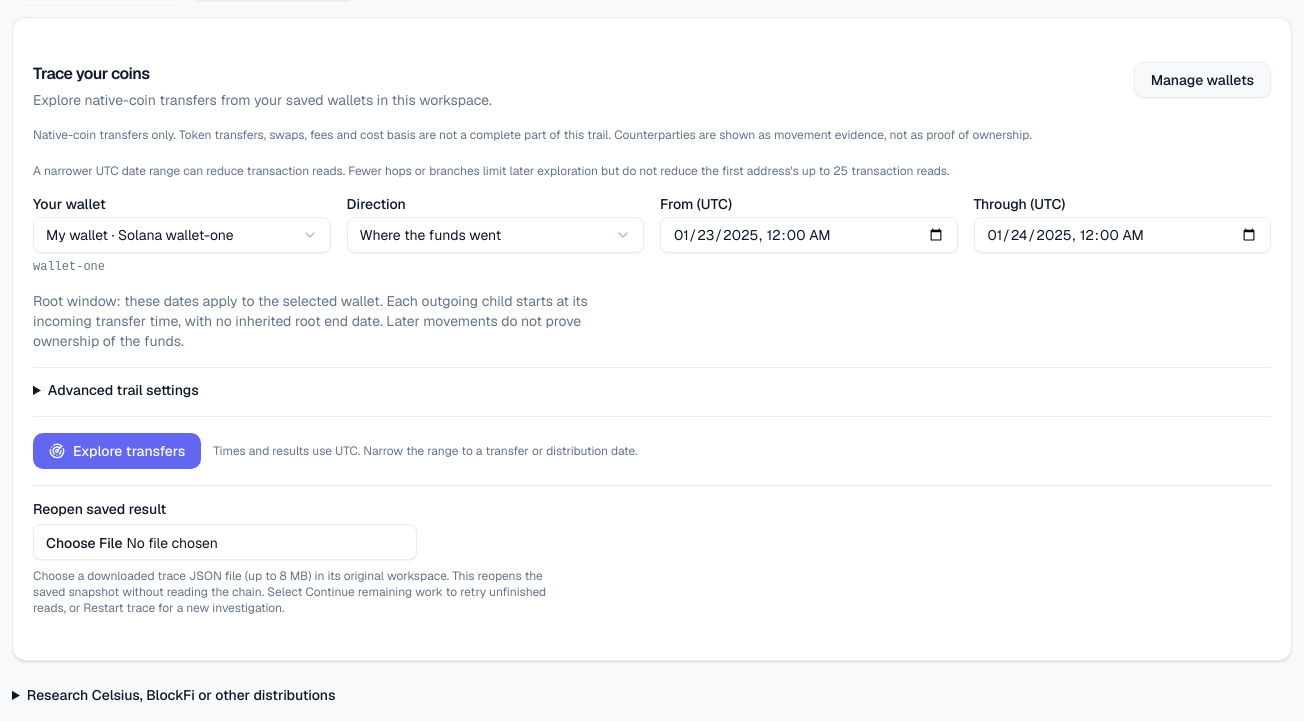
Test: owned wallet activity › explains the out root window and keeps a converging unfinished child window visible
Check: the dropdown named "Your wallet" is shown, box x1=33 y1=217 x2=330 y2=253
Check: the text "no inherited root end date" is shown, box x1=33 y1=292 x2=588 y2=350
Step 1. Click the button "Explore transfers" → (117, 451), box x1=33 y1=433 x2=201 y2=469
(page scrolled)
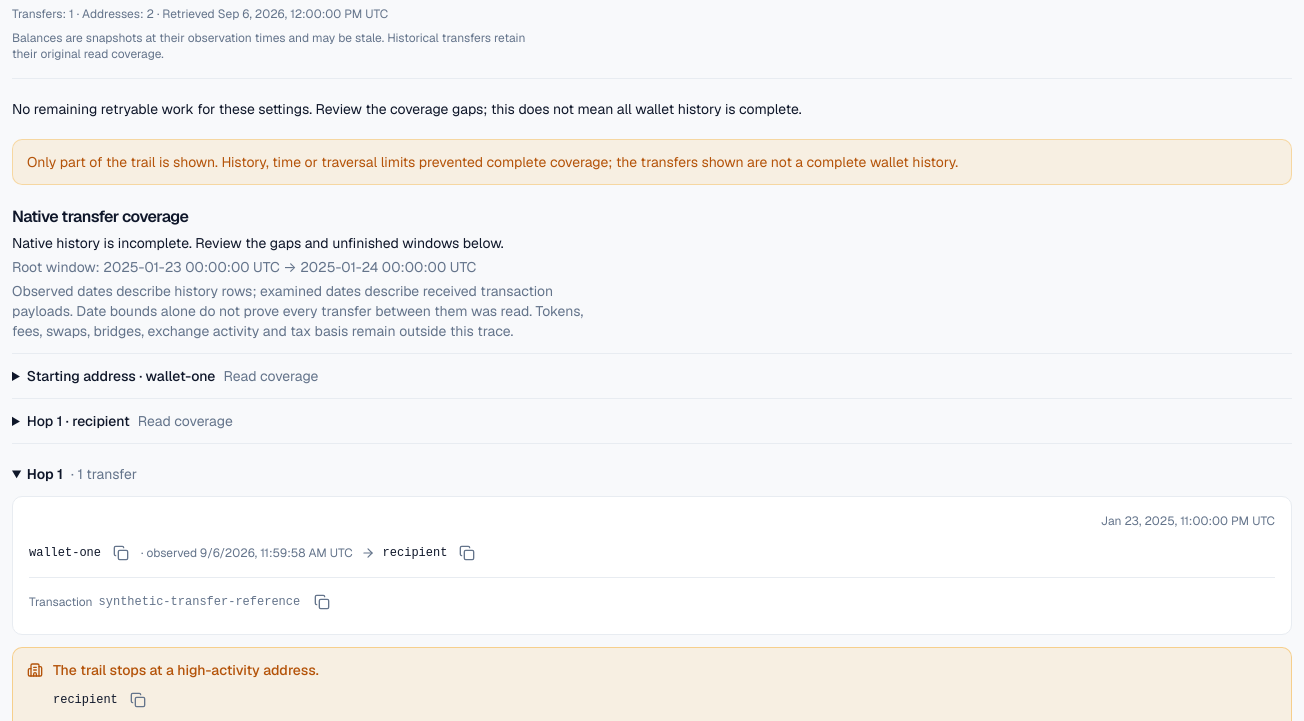
Step 2. Click the heading "Hop 1 · recipient" → (130, 421), box x1=27 y1=412 x2=233 y2=430
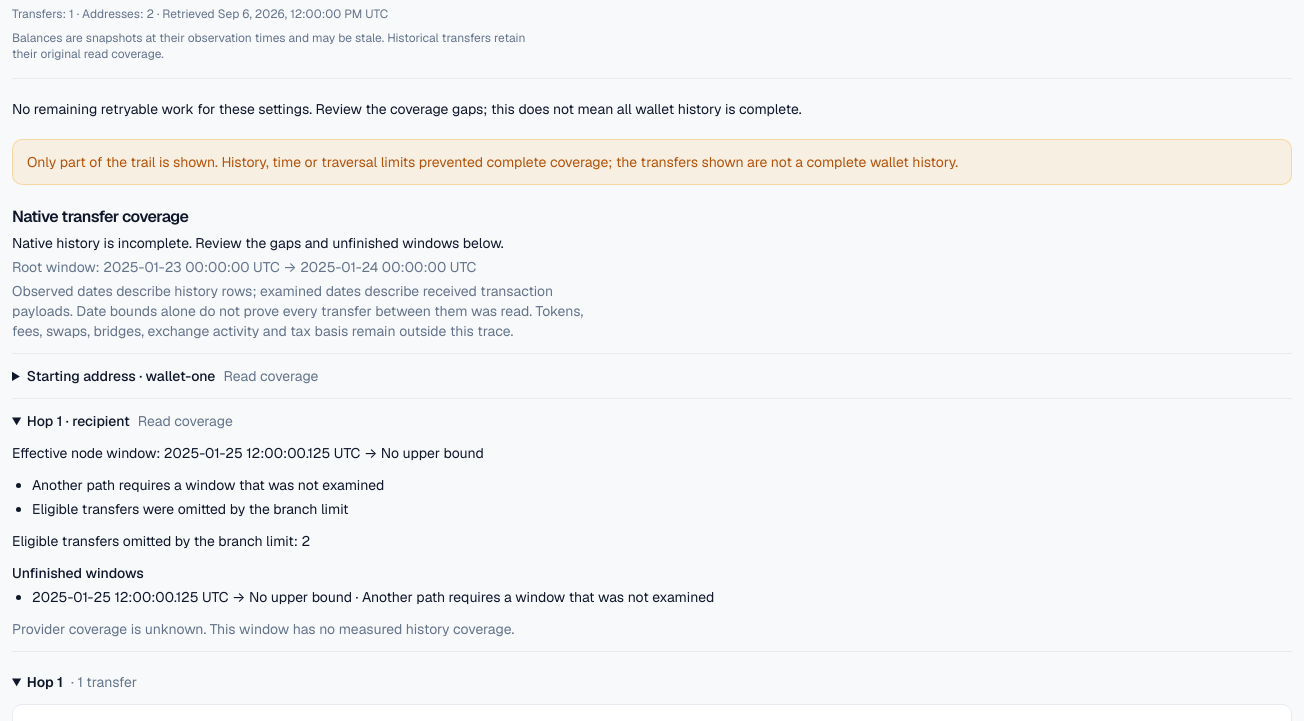
Check: the heading "Unfinished windows" is shown, box x1=12 y1=564 x2=144 y2=582
Check: the text "Eligible transfers omitted by the branch limit: 2" is shown, box x1=12 y1=532 x2=310 y2=550
Check: the number of list items "Another path requires a window that was not examined" is 2, box x1=32 y1=476 x2=384 y2=494; x1=32 y1=588 x2=714 y2=606
